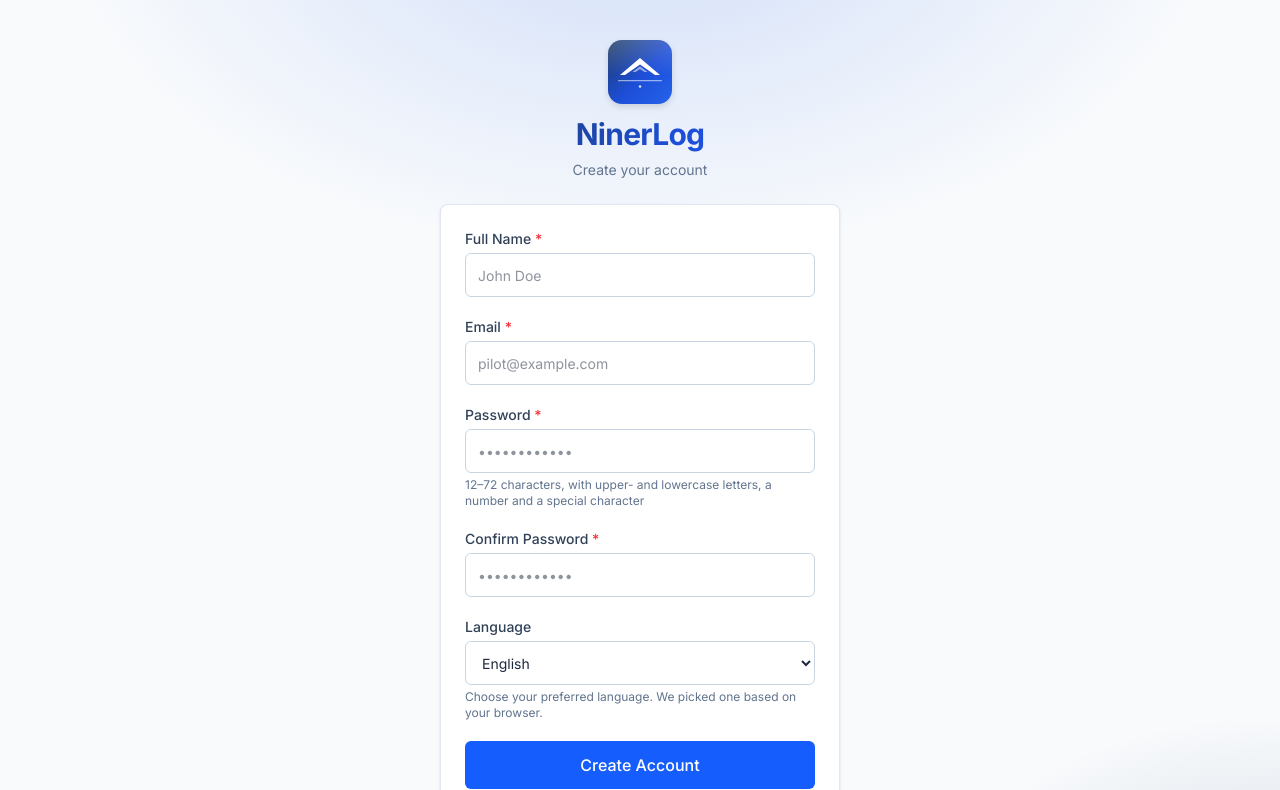
Test: RegisterPage › validates password matching
The image size is (1280, 790).
Type "test@example.com" into the field labelled "Email *" at (640, 363), box [465,341,815,385]
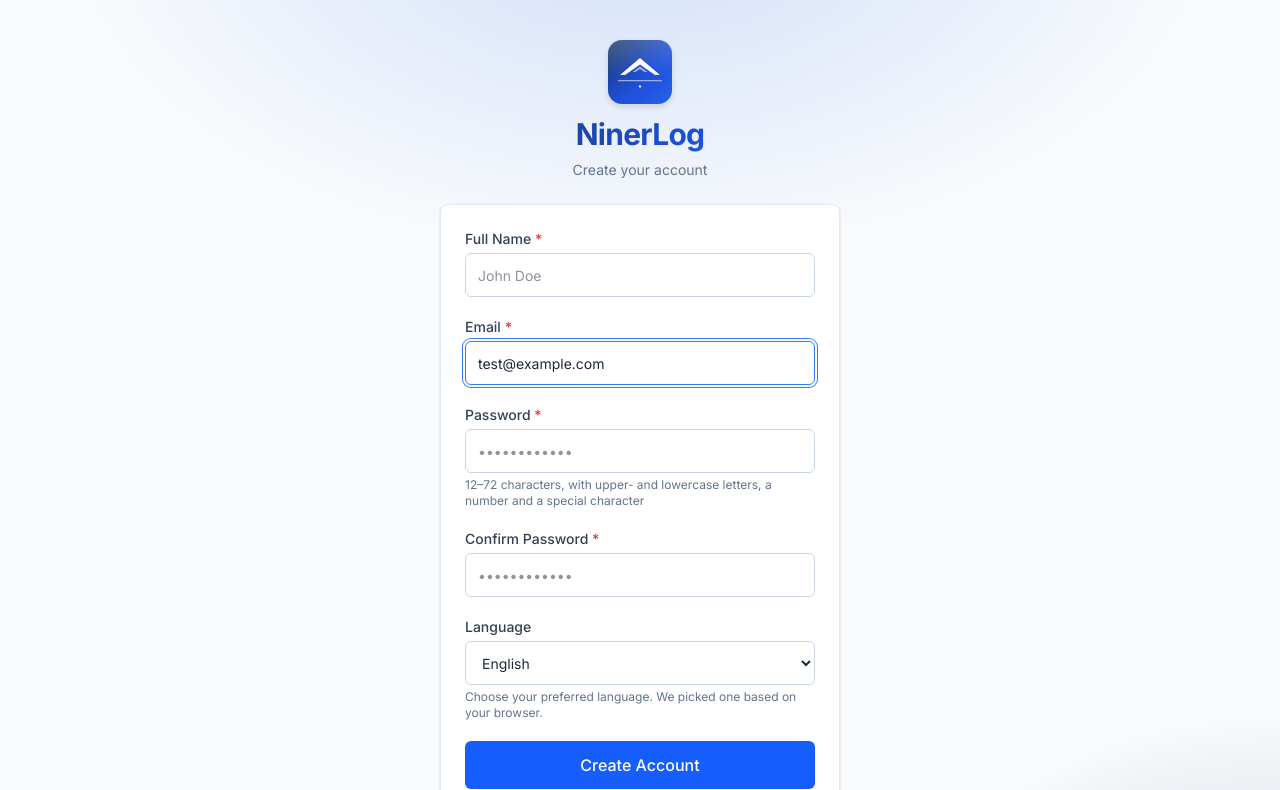
Type "Password1234!" into the password field labelled "Password *" at (640, 451), box [465,429,815,473]
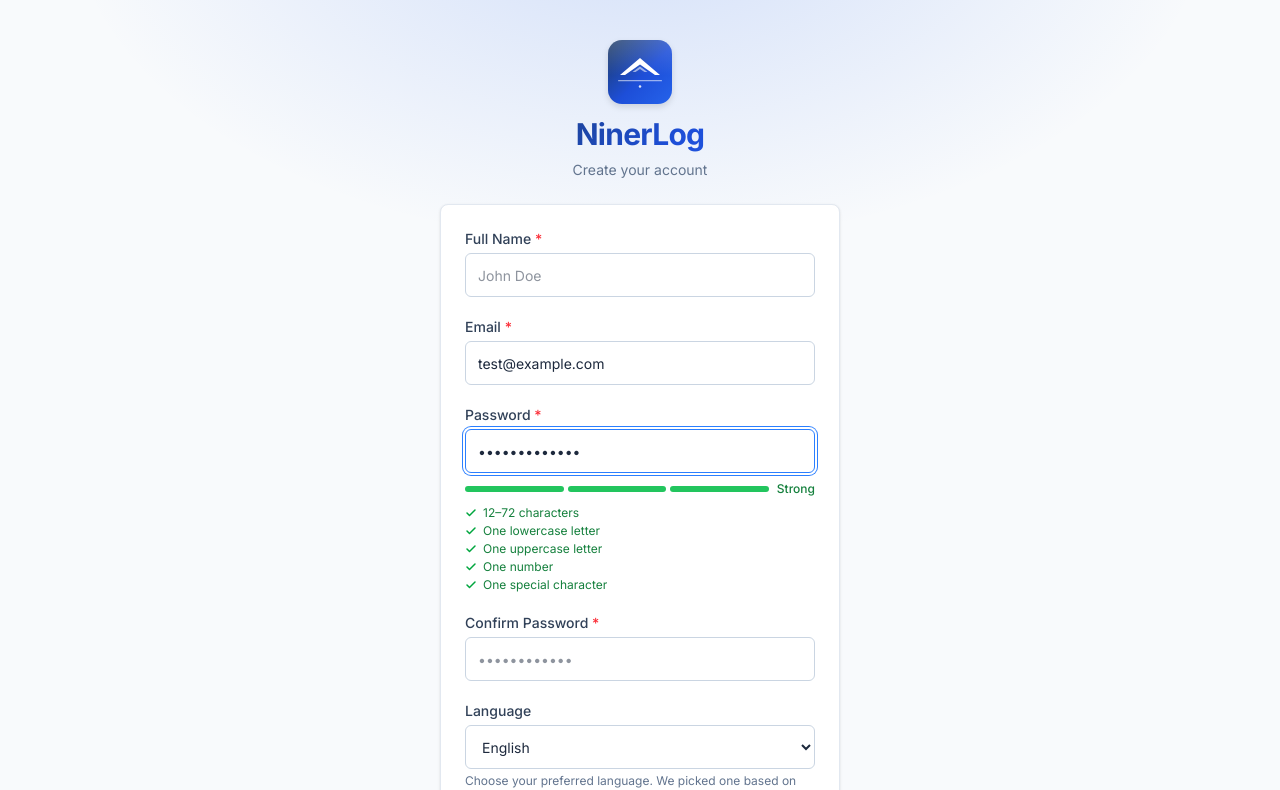
Type "Password4567!" into the password field labelled "Confirm Password *" at (640, 659), box [465,637,815,681]
(page scrolled)
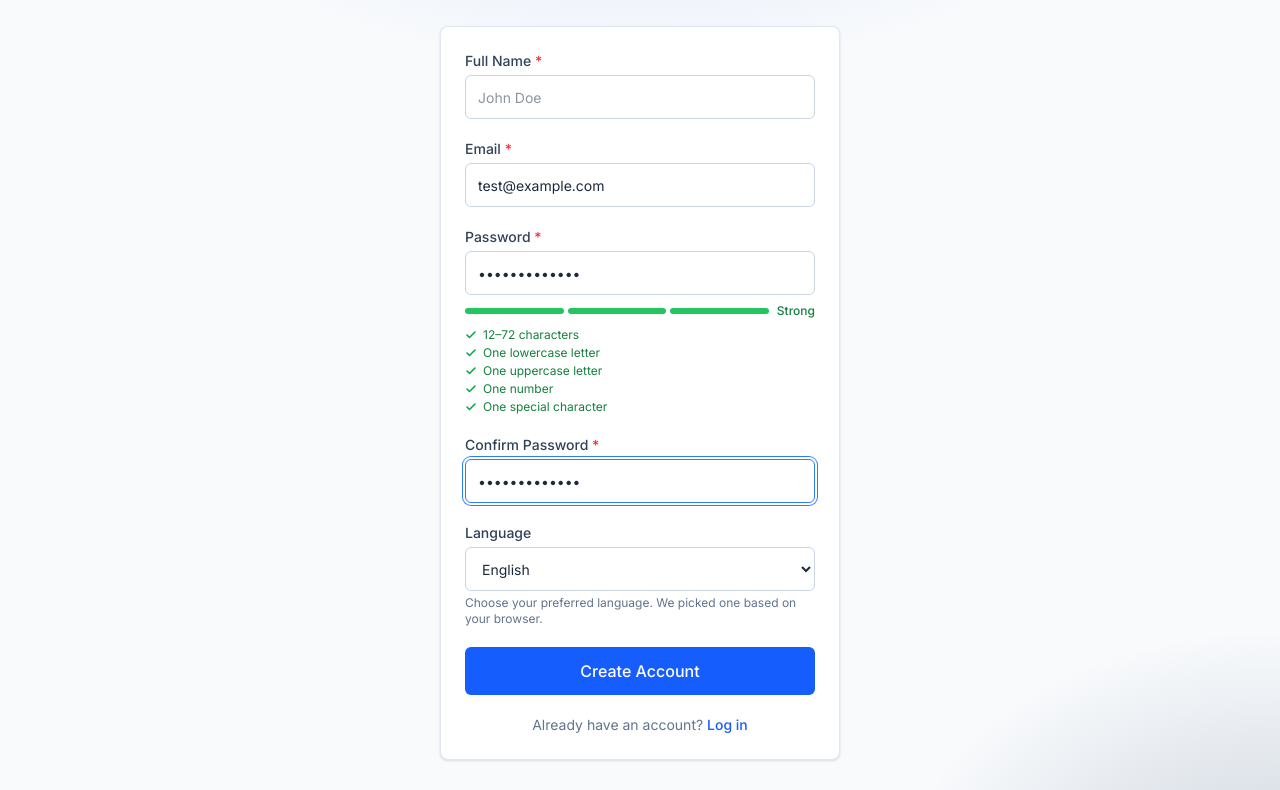
Click the button "Create Account" at (640, 671), box [465,647,815,695]
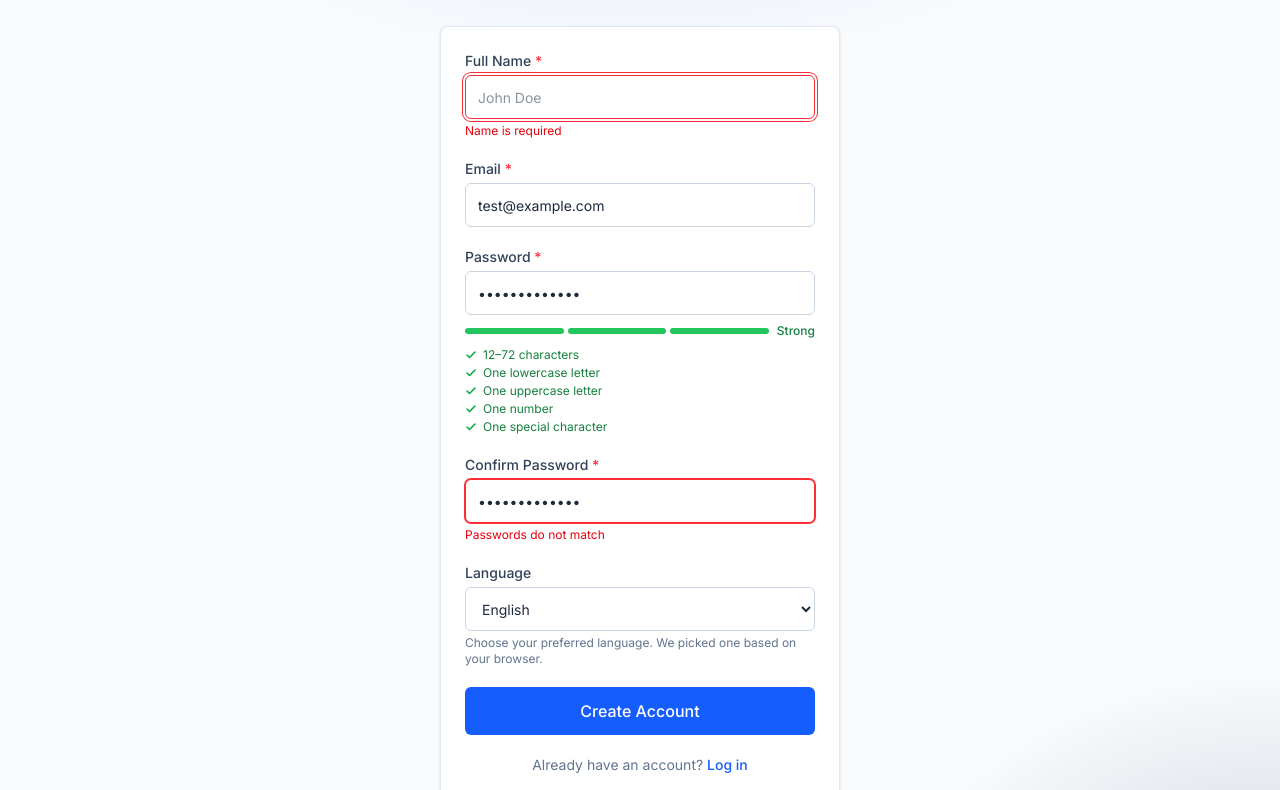
Result: the text "Passwords do not match" is shown at [465,527,605,542]
